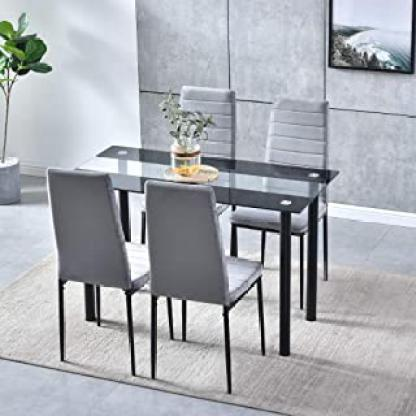chair: (142, 179, 272, 400), (35, 163, 138, 379), (225, 95, 348, 275), (134, 85, 238, 243)
